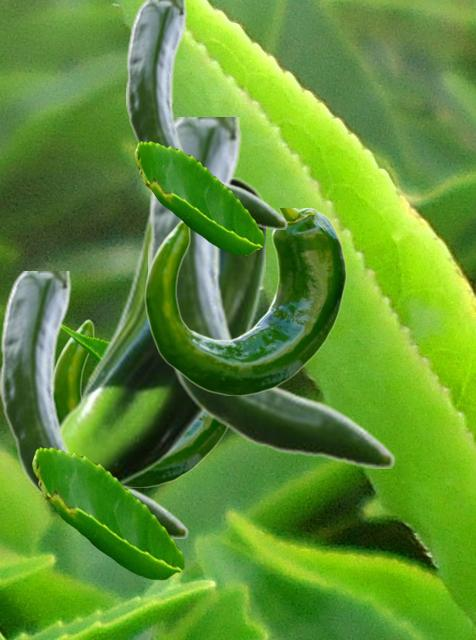green_chili: (148, 117, 395, 467), (59, 177, 264, 484), (0, 271, 188, 537), (144, 208, 346, 394), (126, 0, 287, 228), (55, 317, 227, 486)
